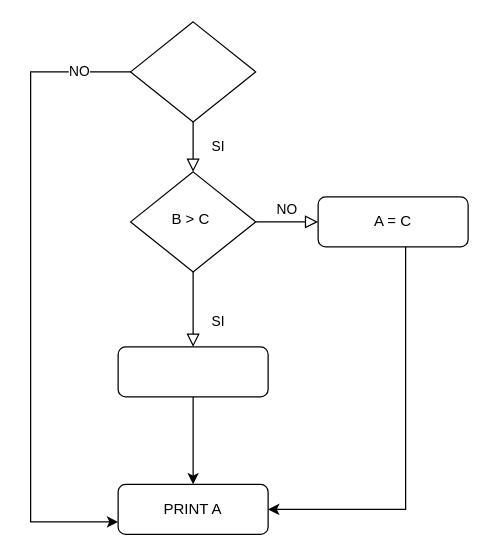
Some shapes in this 490 by 556 pixel diagram are drawn without their labels. The centre of each missing label's shape, as x and y in pixels:
"A = 354" belongs at point (192, 71).
"A = B" belongs at point (192, 371).
